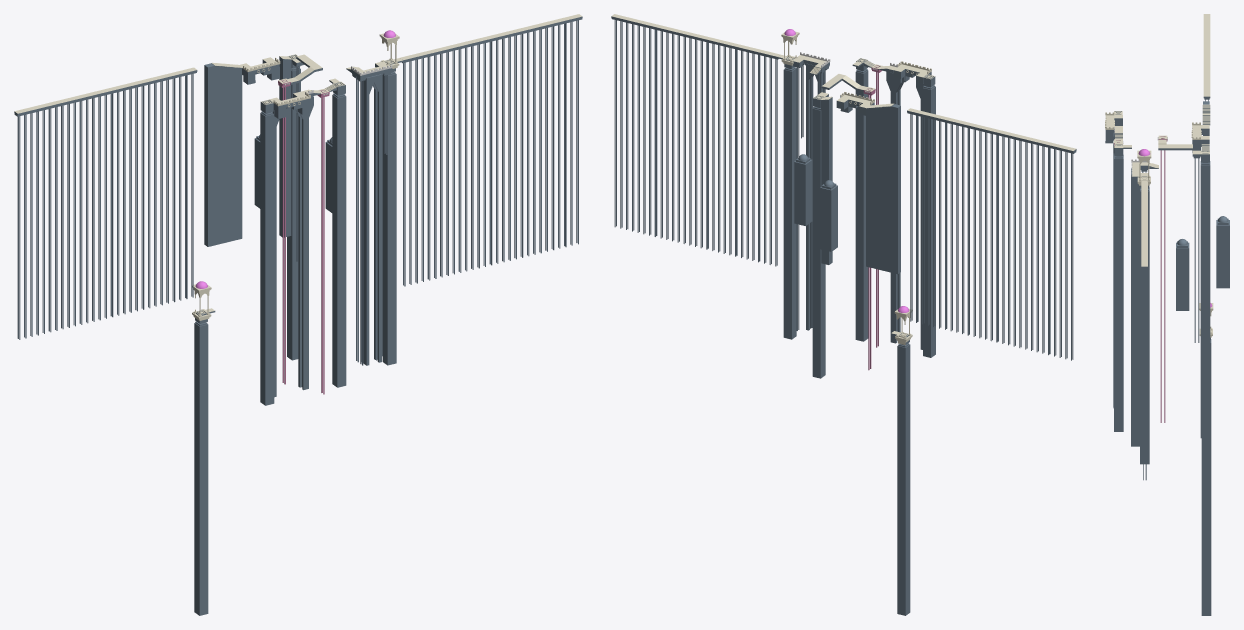
Rendered from Level 3.fbx.
3 views of the same model, side by side, from view 1: azimuth 30°, elevation 25°; view 2: azimuth 150°, elevation 25°; view 3: azimuth 270°, elevation 25° (orthographic). The views are drawn at different scales.
Visible parts, largest first — view 1: Cube.027, Cube.025, Plane.004, Cube.009, Cube.008, Cube.003, Cube.007, Cube.015, Plane.001, Plane.007, Plane.006, Cube.014 (+7 smaller); view 2: Cube.025, Cube.027, Plane.004, Cube.003, Cube.007, Cube.009, Cube.008, Cube.015, Sphere.003, Plane.006, Cube.014, Cube.074 (+4 smaller); view 3: Cube.015, Cube.008, Cube.007, Plane.006, Cube.003, Sphere.003, Cube.022, Cube.028, Cube.044, Cube.025, Cube.033, Plane.003 (+6 smaller).
Boxes of the visible parts, x1=… form: Cube.027: x1=14, y1=70, x2=197, y2=339; Cube.025: x1=402, y1=16, x2=582, y2=286; Plane.004: x1=204, y1=63, x2=242, y2=246; Cube.009: x1=260, y1=100, x2=274, y2=405; Cube.008: x1=329, y1=80, x2=346, y2=387; Cube.003: x1=194, y1=310, x2=215, y2=615; Cube.007: x1=382, y1=60, x2=402, y2=365; Cube.015: x1=287, y1=54, x2=300, y2=360; Plane.001: x1=295, y1=109, x2=306, y2=390; Plane.007: x1=361, y1=76, x2=374, y2=365; Plane.006: x1=373, y1=74, x2=381, y2=362; Cube.014: x1=279, y1=57, x2=291, y2=237; Cube.025: x1=611, y1=16, x2=778, y2=266; Cube.027: x1=907, y1=110, x2=1076, y2=360; Plane.004: x1=866, y1=104, x2=900, y2=274; Cube.003: x1=891, y1=333, x2=910, y2=615; Cube.007: x1=777, y1=57, x2=796, y2=339; Cube.009: x1=923, y1=75, x2=935, y2=357; Cube.008: x1=852, y1=58, x2=868, y2=341; Cube.015: x1=812, y1=95, x2=825, y2=378; Sphere.003: x1=794, y1=154, x2=837, y2=251; Plane.006: x1=806, y1=63, x2=813, y2=330; Cube.014: x1=820, y1=97, x2=832, y2=264; Cube.074: x1=793, y1=63, x2=803, y2=330; Cube.015: x1=1200, y1=151, x2=1210, y2=438; Cube.008: x1=1114, y1=144, x2=1131, y2=431; Cube.007: x1=1140, y1=185, x2=1149, y2=464; Plane.006: x1=1131, y1=171, x2=1140, y2=446; Cube.003: x1=1201, y1=337, x2=1211, y2=615; Sphere.003: x1=1176, y1=216, x2=1229, y2=310; Cube.022: x1=1158, y1=136, x2=1167, y2=422; Cube.028: x1=1192, y1=154, x2=1200, y2=342; Cube.044: x1=1203, y1=14, x2=1210, y2=96; Cube.025: x1=1141, y1=266, x2=1147, y2=480; Cube.033: x1=1141, y1=184, x2=1147, y2=266; Plane.003: x1=1113, y1=133, x2=1114, y2=408.
Size of the model in its own units: 6665 by 6802 by 1437.
